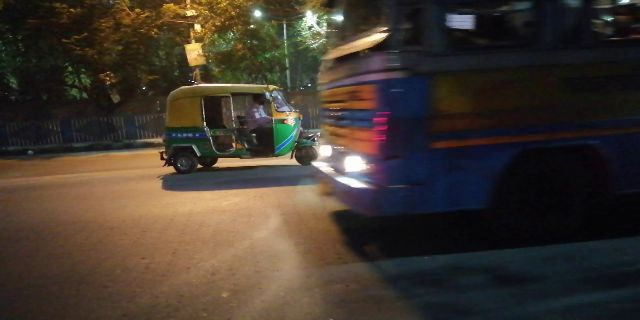Autorickshaw: (157, 78, 302, 171)
Bus: (315, 1, 616, 226)
